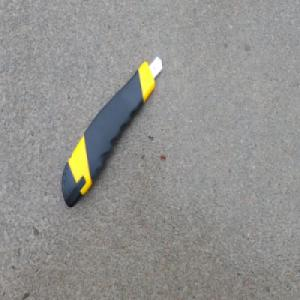Cutter: (61, 53, 163, 208)
